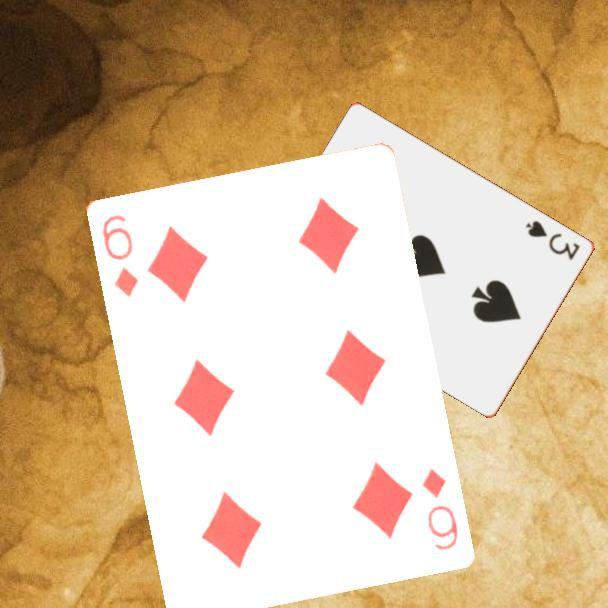d06: (98, 210, 141, 300), (418, 465, 461, 553)
s03: (522, 217, 583, 263)
